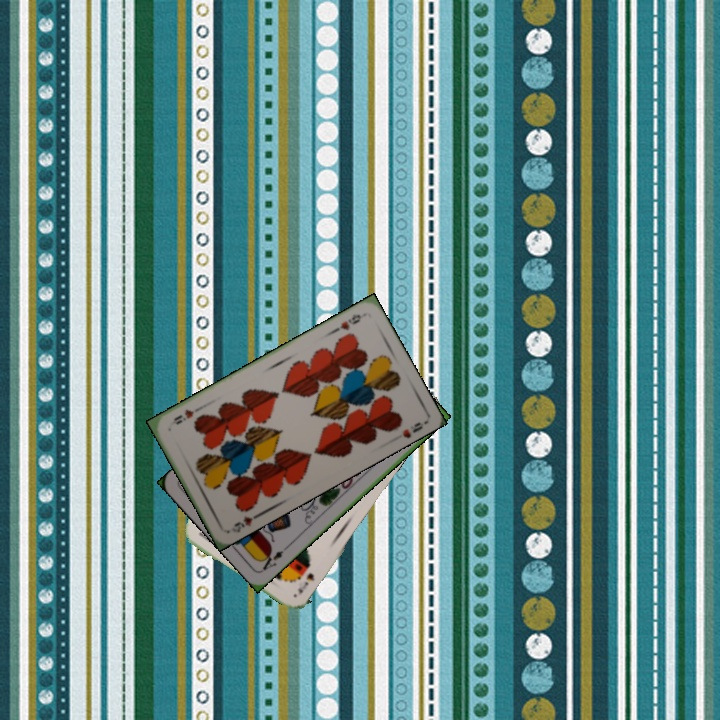EA: (256, 542, 291, 573)
H9: (227, 509, 263, 535), (336, 310, 363, 333)
SO: (294, 569, 317, 596)
